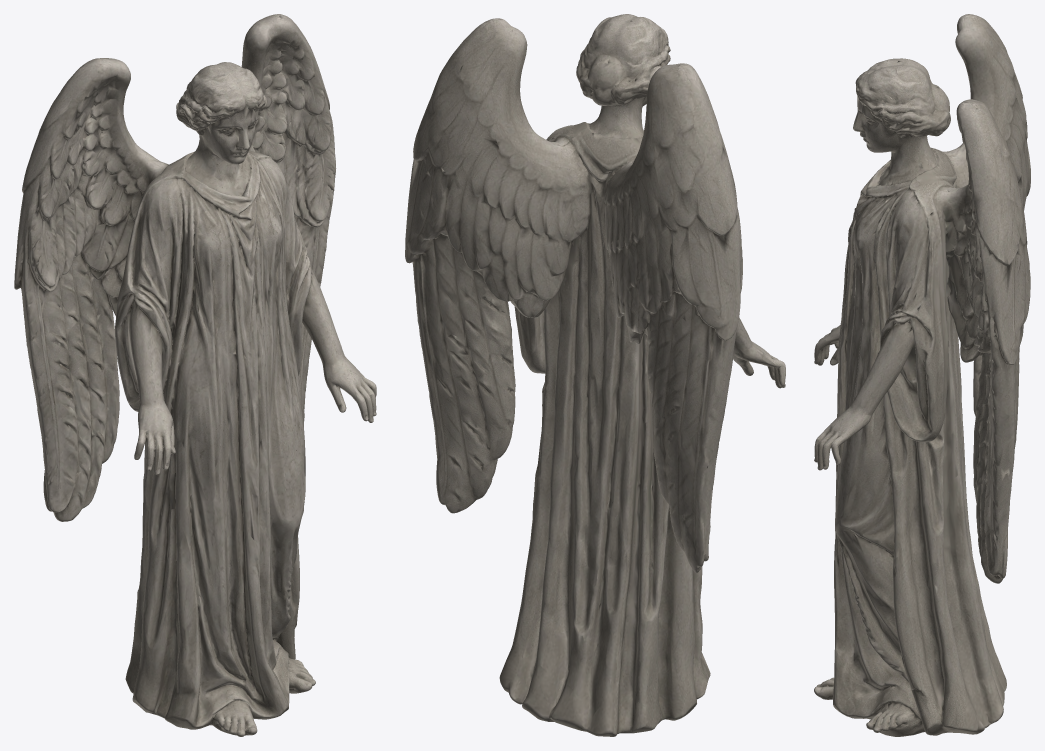
File: angel-game.glb
3 views of the same model, side by side, from view 1: azimuth 30°, elevation 25°; view 2: azimuth 150°, elevation 25°; view 3: azimuth 270°, elevation 25° (orthographic). The views are drawn at different scales.
Visible parts, largest first — view 1: char1; view 2: char1; view 3: char1.
Boxes of the visible parts, left/top/right/bottom form: char1: left=14, top=14, right=376, bottom=736; char1: left=405, top=14, right=785, bottom=736; char1: left=814, top=14, right=1030, bottom=736.
Size of the model in its own units: 124 by 240 by 73.27.
Materials: 1 (1 with a texture image).
